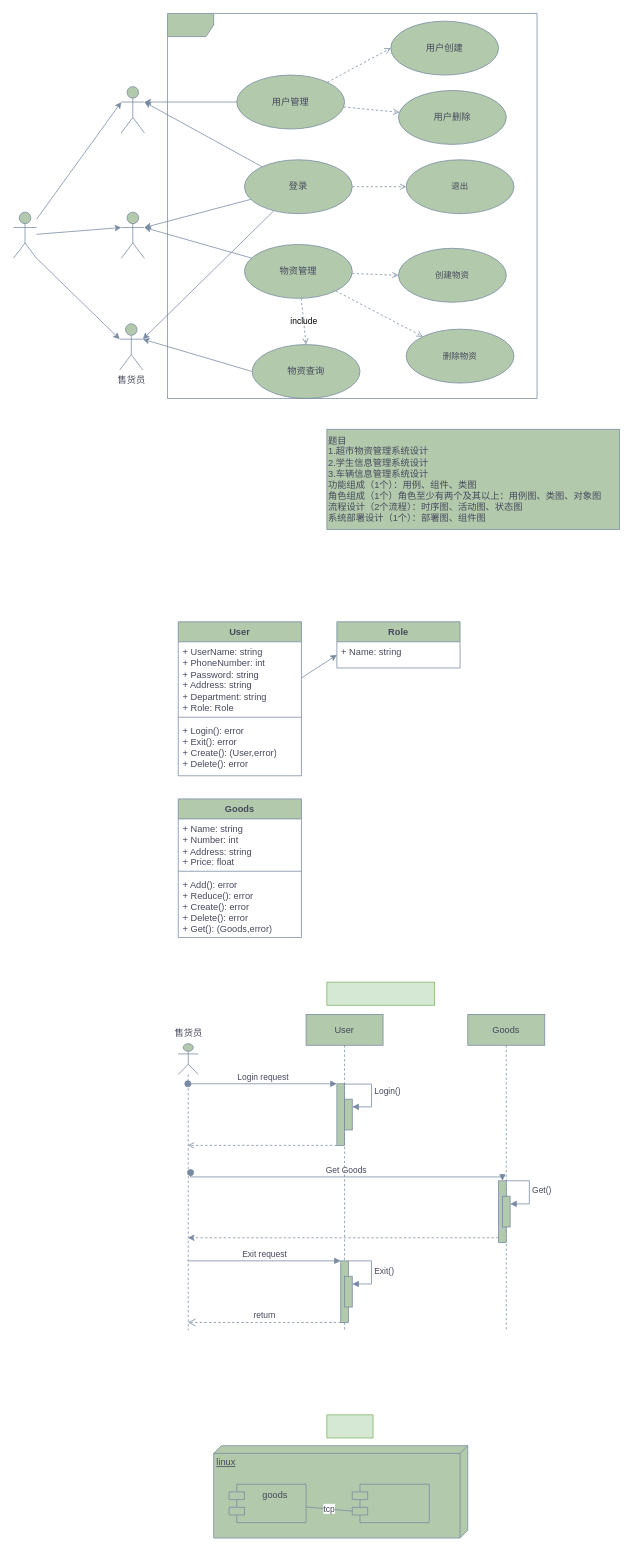
Some shapes in this 633 by 1552 pixel diagram are drawn without their labels. The shapes that lost their labels are listed below. From the top down, each one's centre as x and y in pixels, then its label:
At point 132,109: "系统管理".
At point 352,205: "超市物资管理系统".
At point 25,234: "用户".
At point 132,234: "物资管理员".
At point 380,993: "售货员查看物资时序图".
At point 349,1426: "部署图".
At point 390,1503: "mysql".
